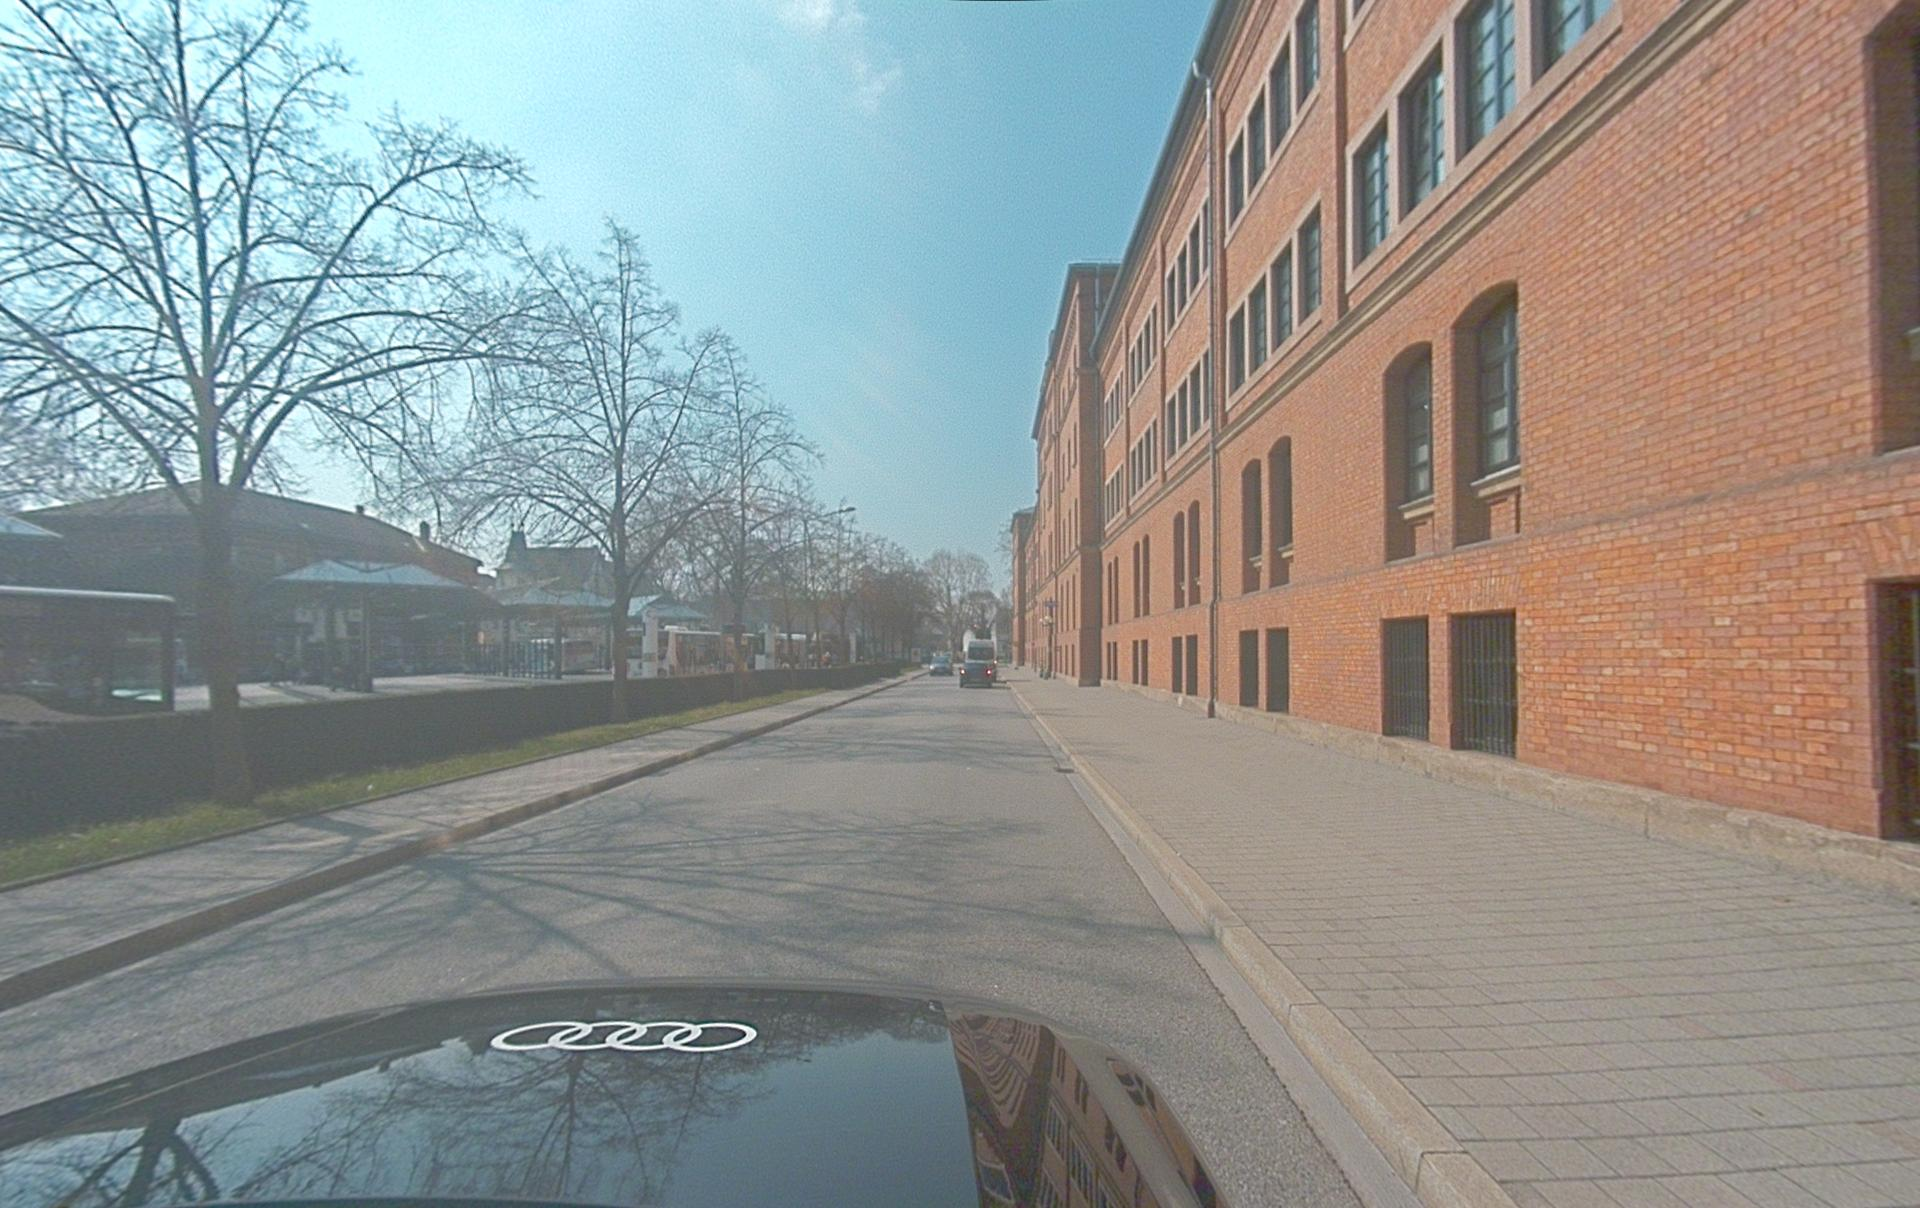car: (1, 978, 1227, 1207), (959, 639, 997, 688), (931, 652, 952, 675)
